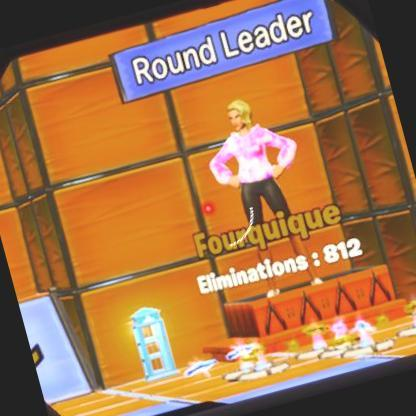person: (195, 86, 316, 238)
